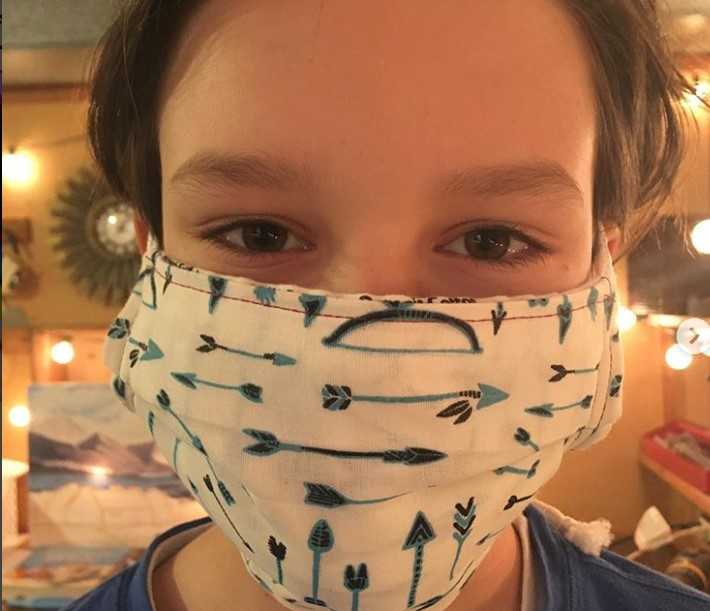face_with_mask: (93, 7, 641, 610)
